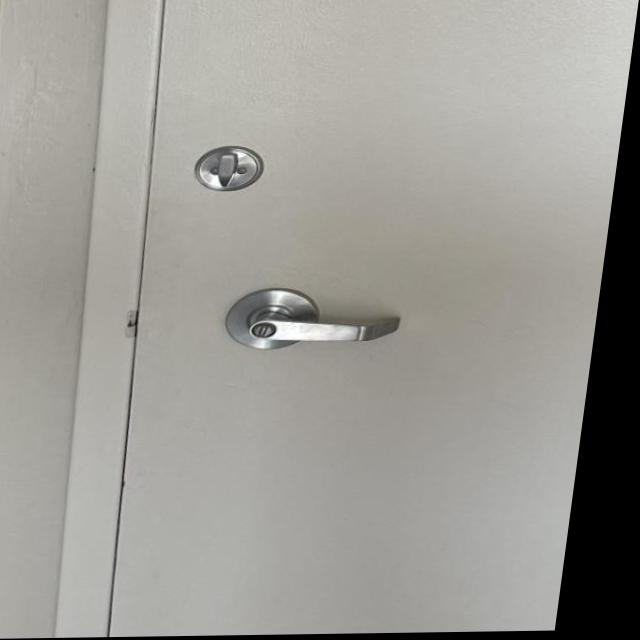door_handle: (217, 303, 431, 365)
